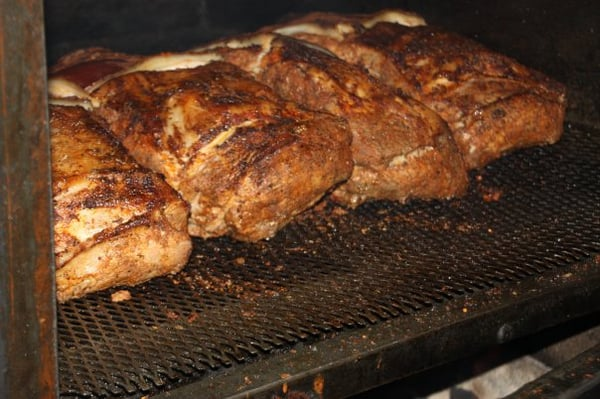sushi: (52, 11, 570, 248)
